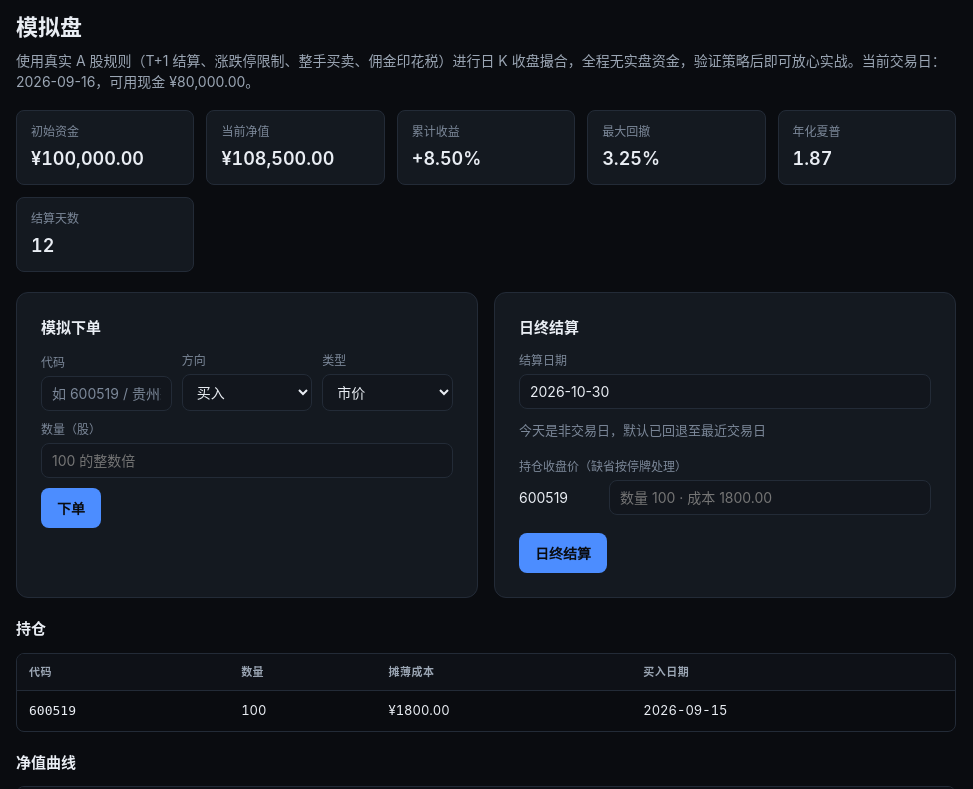
PaperTradingPage 下单表单校验 › 代码不是 6 位数字：拦下并给中文原因，不发起下单
Expected: the button "下单" is enabled, [41,488,101,528]
Type "60051" into the dropdown named "下单股票代码".
click(106, 393); type("60051")  # box [41,376,172,410]
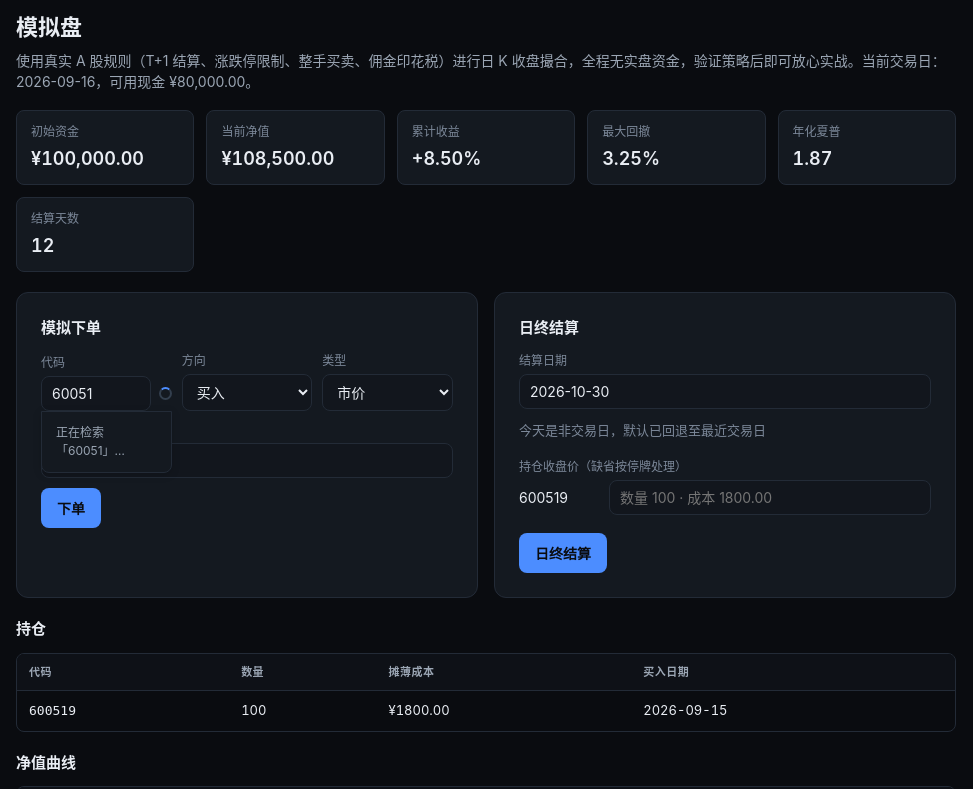
Click the button "下单".
click(71, 508)  # box [41,488,101,528]
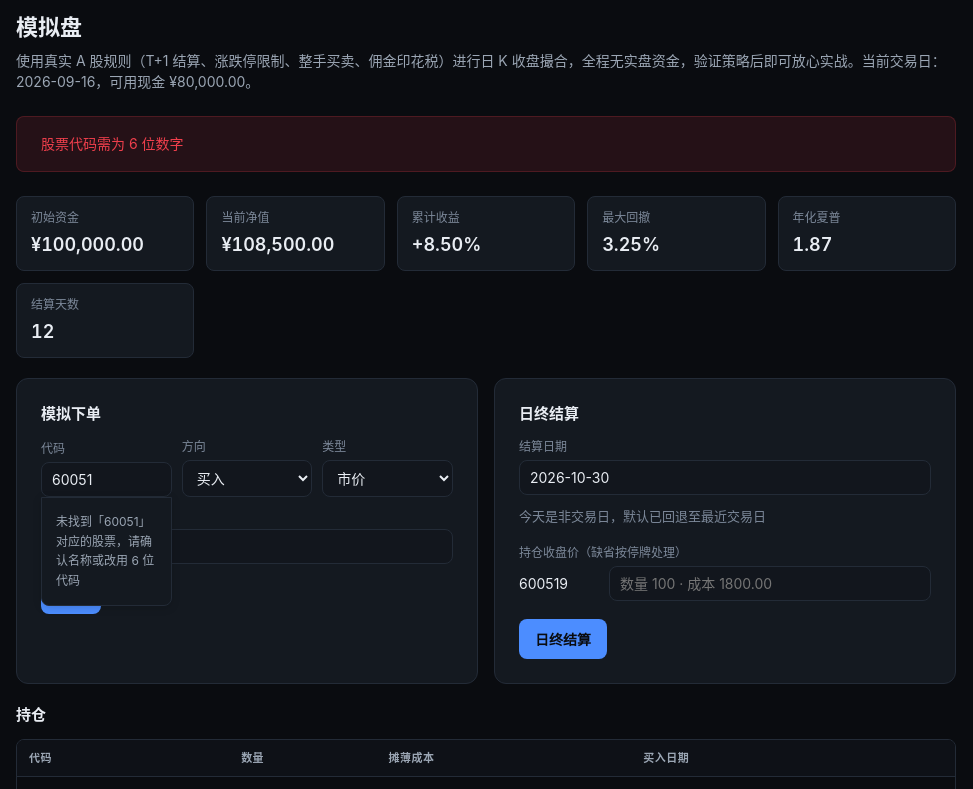
Expected: the message reads "股票代码需为 6 位数字", [41,135,184,152]
